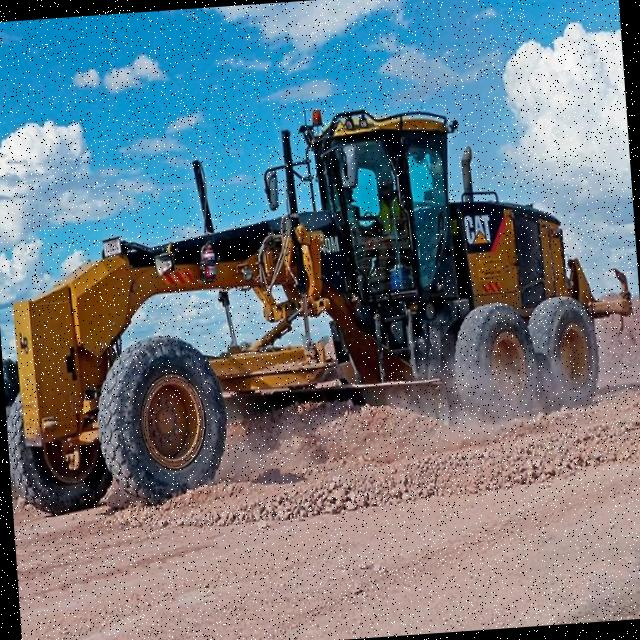Grader: (0, 55, 631, 524)
